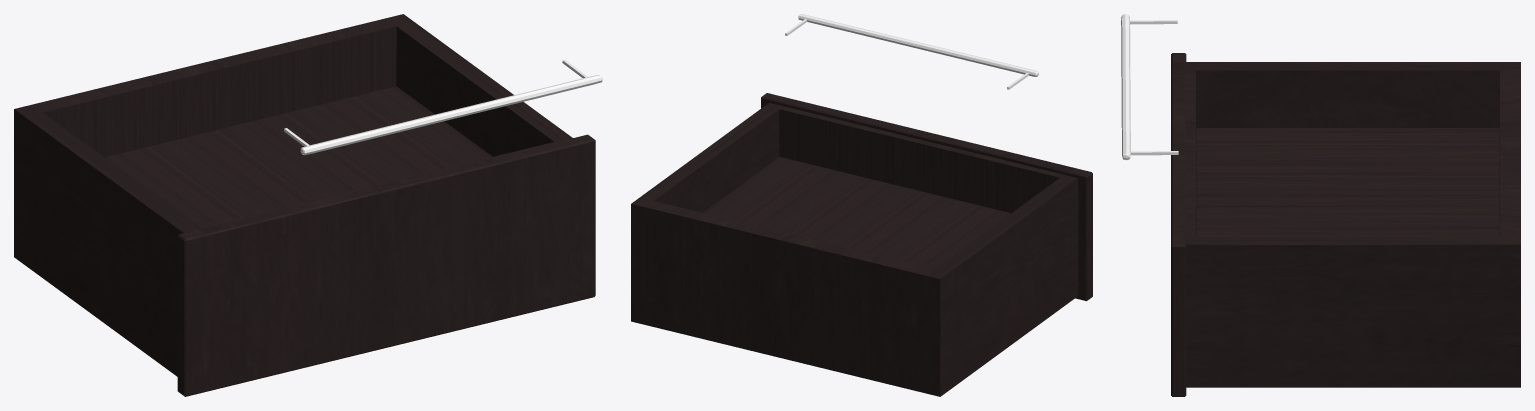
The model's file is Drawer_424043cf.obj.
3 renders of one model, left to right at view 1: azimuth 30°, elevation 25°; view 2: azimuth 150°, elevation 25°; view 3: azimuth 270°, elevation 25°, orthographic. The views are drawn at different scales.
Visible parts, largest first — view 1: DrawerMesh_01_8e938e64, CabineDoorHandle2_(7)_01_5a13da0e; view 2: DrawerMesh_01_8e938e64, CabineDoorHandle2_(7)_01_5a13da0e; view 3: DrawerMesh_01_8e938e64, CabineDoorHandle2_(7)_01_5a13da0e.
Boxes of the visible parts, x1,y1,x2,y2 form: DrawerMesh_01_8e938e64: (14,14,595,396); CabineDoorHandle2_(7)_01_5a13da0e: (284,59,602,155); DrawerMesh_01_8e938e64: (631,93,1092,396); CabineDoorHandle2_(7)_01_5a13da0e: (785,14,1038,89); DrawerMesh_01_8e938e64: (1171,53,1520,396); CabineDoorHandle2_(7)_01_5a13da0e: (1121,14,1178,160).
Size of the model in its own units: 0.6 by 0.3399 by 0.5241.
